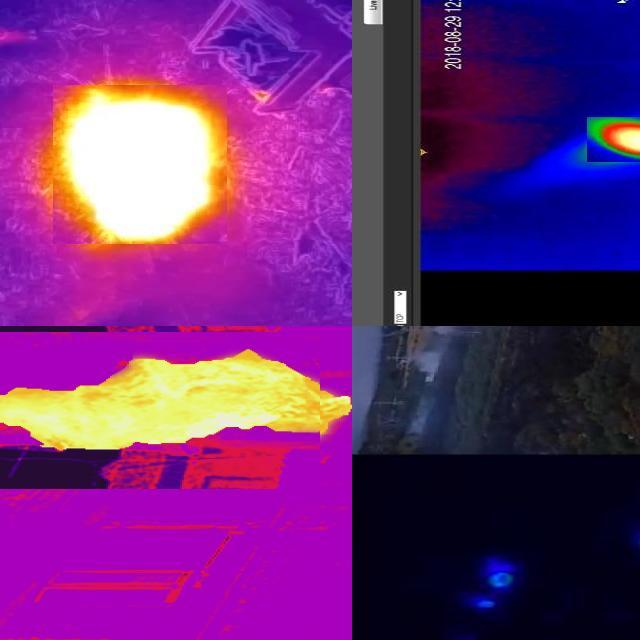fire: (1, 332, 360, 471), (54, 85, 228, 244), (588, 117, 640, 162)
